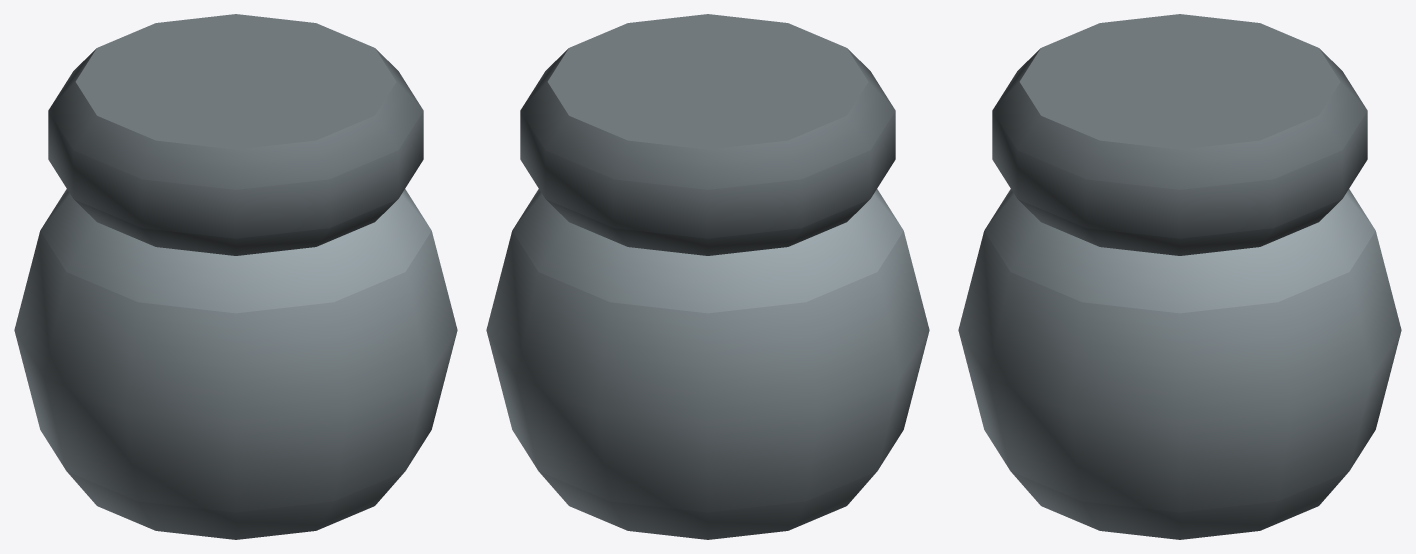
The model's file is jar_B_small.obj.
The picture shows the model from 3 angles, left to right: view 1: azimuth 30°, elevation 25°; view 2: azimuth 150°, elevation 25°; view 3: azimuth 270°, elevation 25°; orthographic projection.
Parts seen in each view (by area): view 1: jar_B_small_Cylinder.264; view 2: jar_B_small_Cylinder.264; view 3: jar_B_small_Cylinder.264.
Boxes of the visible parts, <box> form: jar_B_small_Cylinder.264: <box>14,14,457,539</box>; jar_B_small_Cylinder.264: <box>486,14,929,539</box>; jar_B_small_Cylinder.264: <box>958,14,1401,539</box>.
Bounding box in the file's own units: 0.566 × 0.55 × 0.566.
Materials: 1 (1 with a texture image).
